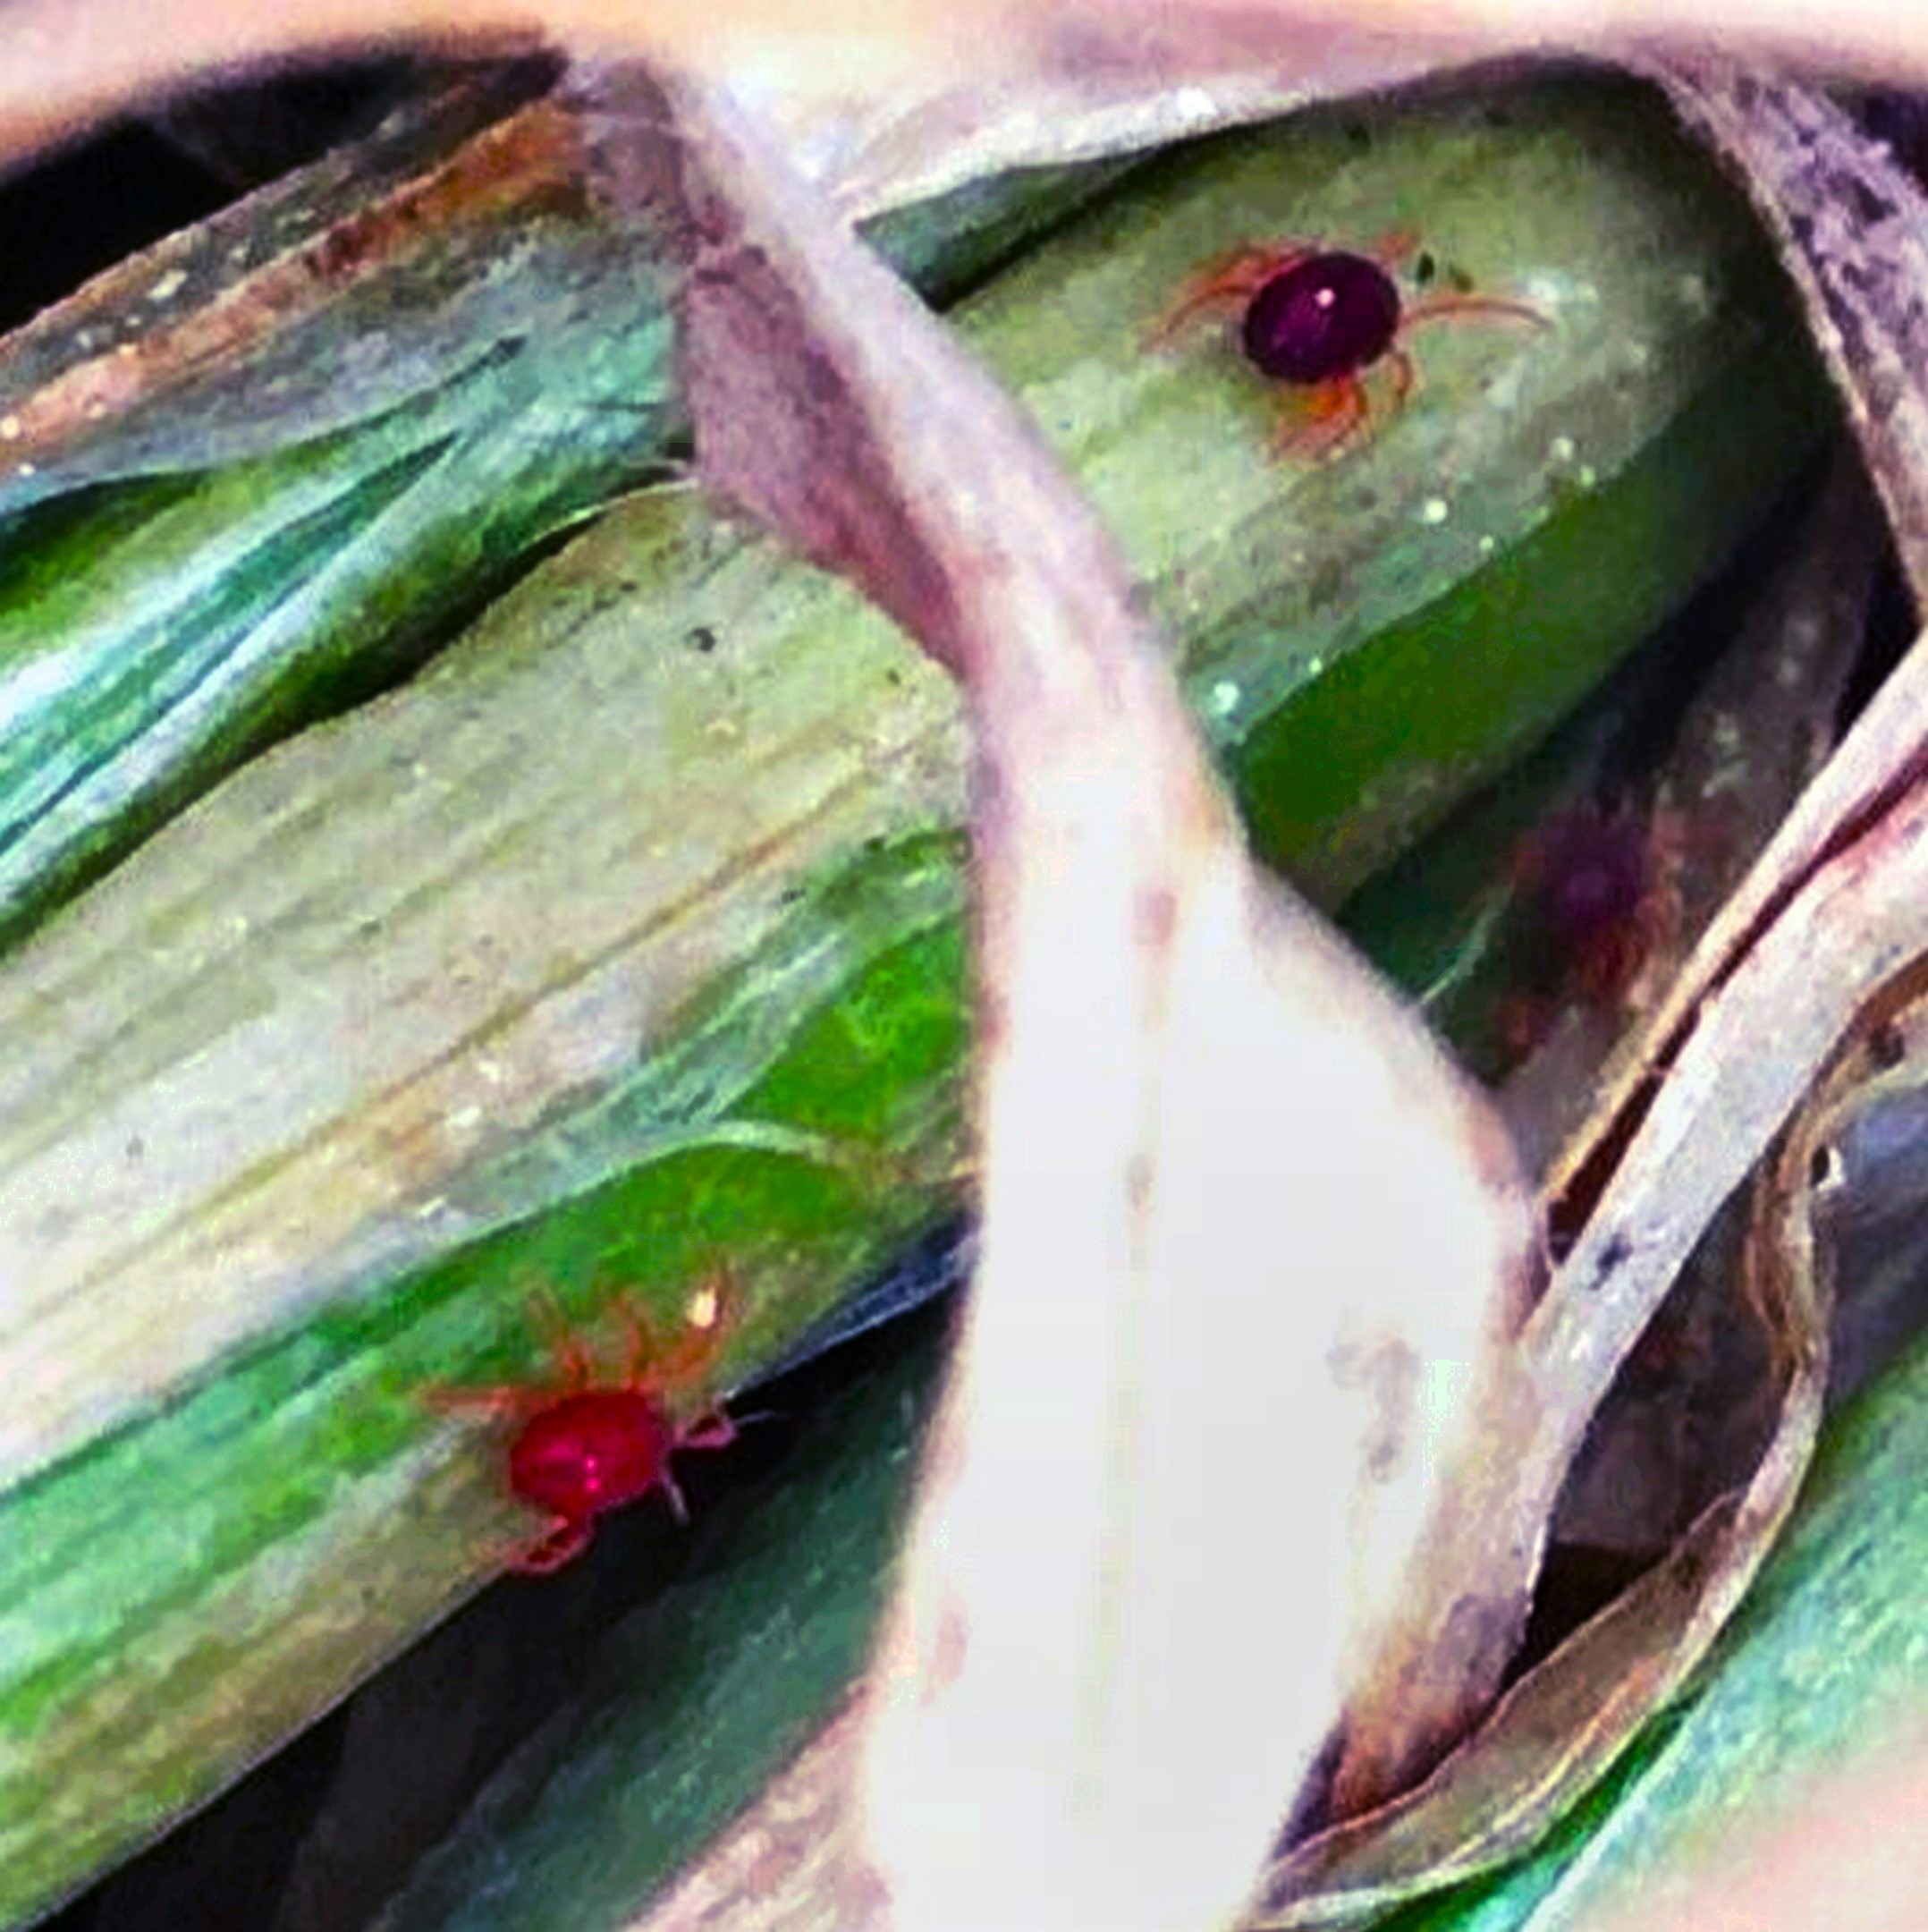Wheat Red Spider: (406, 1236, 791, 1602), (1112, 189, 1577, 486)
